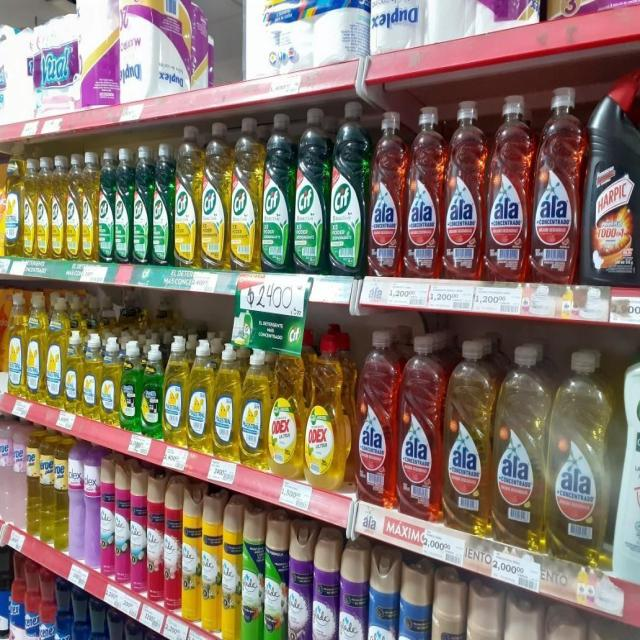ala_conc_amarillo: (548, 348, 610, 565), (493, 343, 545, 549), (444, 337, 492, 531)
ala_conc_azul: (585, 69, 640, 288)
ala_conc_rojo: (532, 85, 582, 285), (486, 94, 531, 284), (398, 334, 442, 520), (444, 100, 484, 282), (356, 327, 396, 507), (405, 106, 443, 280), (367, 110, 404, 279)
cif_conc_bot_amarilla: (230, 116, 261, 272), (201, 121, 229, 270), (174, 124, 200, 268), (82, 150, 98, 262), (66, 153, 82, 261), (51, 154, 66, 260), (36, 156, 51, 260), (24, 156, 36, 258)
cif_conc_botella_verde: (328, 100, 366, 276), (294, 108, 328, 274), (262, 112, 292, 273), (152, 142, 173, 266), (133, 144, 152, 265), (115, 146, 132, 264), (99, 148, 114, 264)
heroe: (69, 437, 84, 562), (12, 419, 27, 528), (55, 431, 68, 554), (41, 427, 54, 546), (27, 425, 40, 540), (0, 412, 12, 521)
magistral_con_amarillo: (240, 350, 268, 468), (213, 343, 240, 461), (188, 339, 212, 453), (163, 336, 187, 445), (26, 292, 45, 402), (46, 294, 64, 408), (7, 290, 25, 397), (100, 336, 120, 426), (6, 154, 23, 258), (82, 334, 100, 419), (65, 329, 81, 414)
odex: (304, 333, 350, 490), (269, 345, 303, 477)
